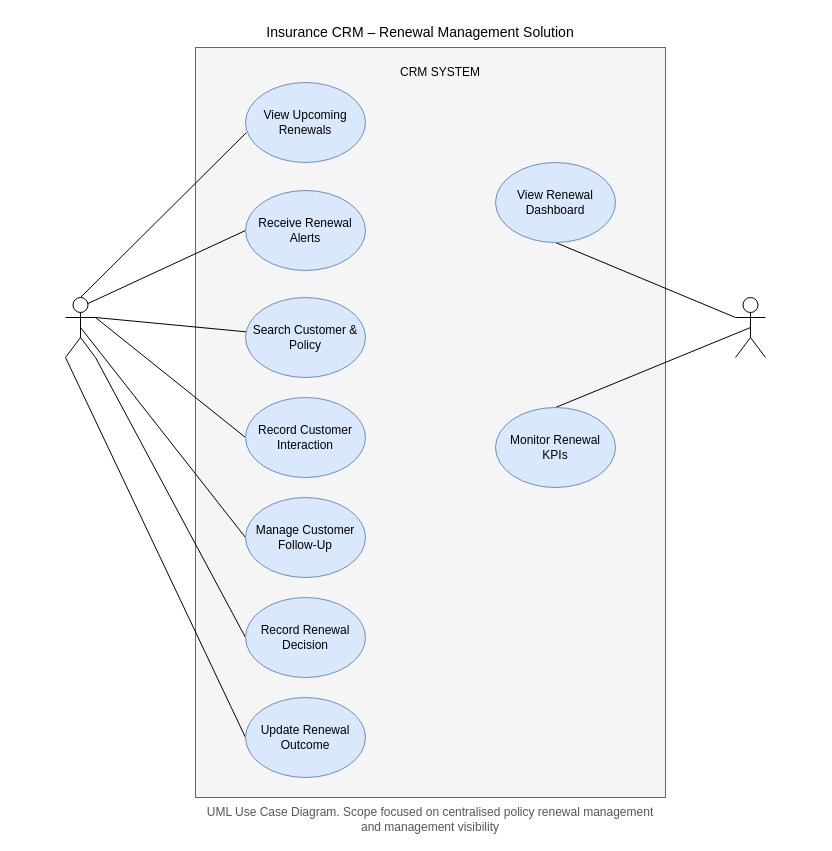
Image size: 832x851. Some labels were removed from this diagram. Here are the shapes that lost their labels. From the top down, the centre of each, then its label:
[80,327]: I nsurance Advisor
[750,327]: Area Sales Manager
